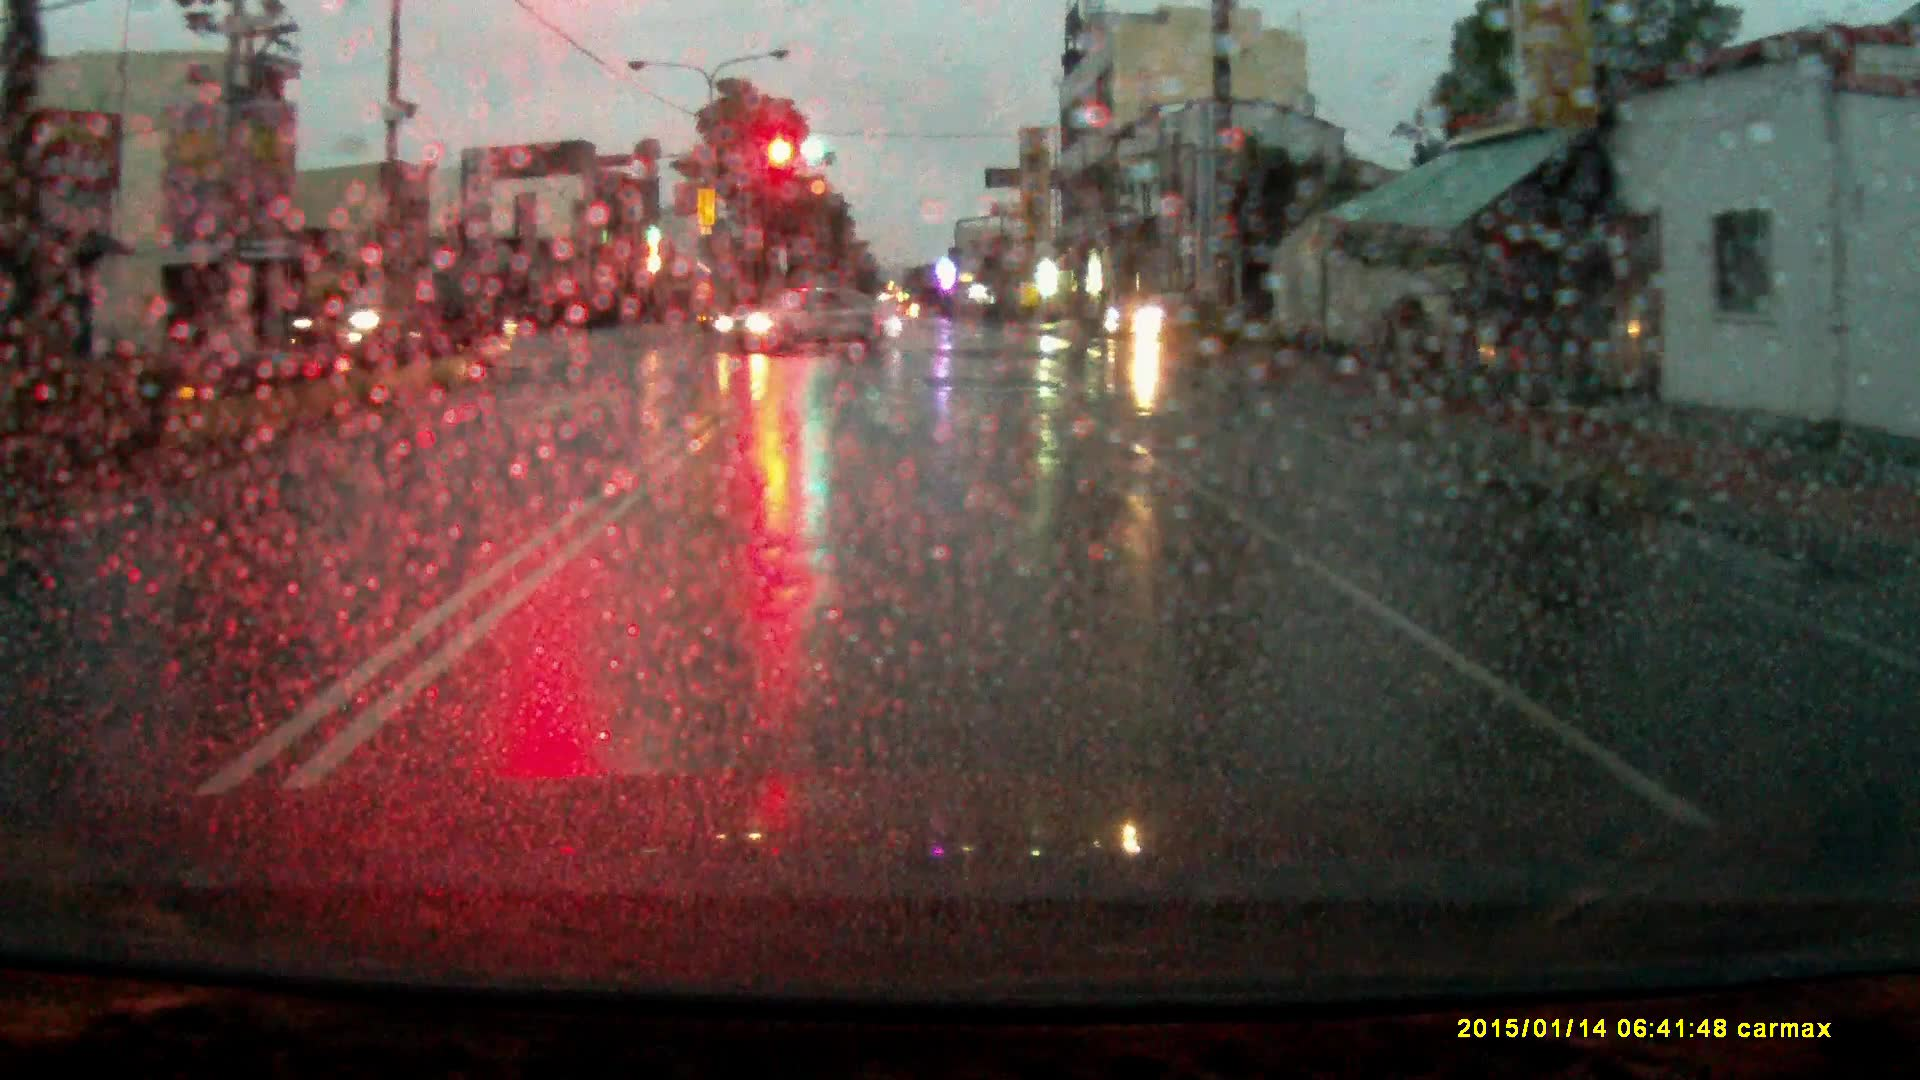vehicle: (280, 273, 524, 375), (709, 287, 906, 360), (1104, 290, 1251, 340)
